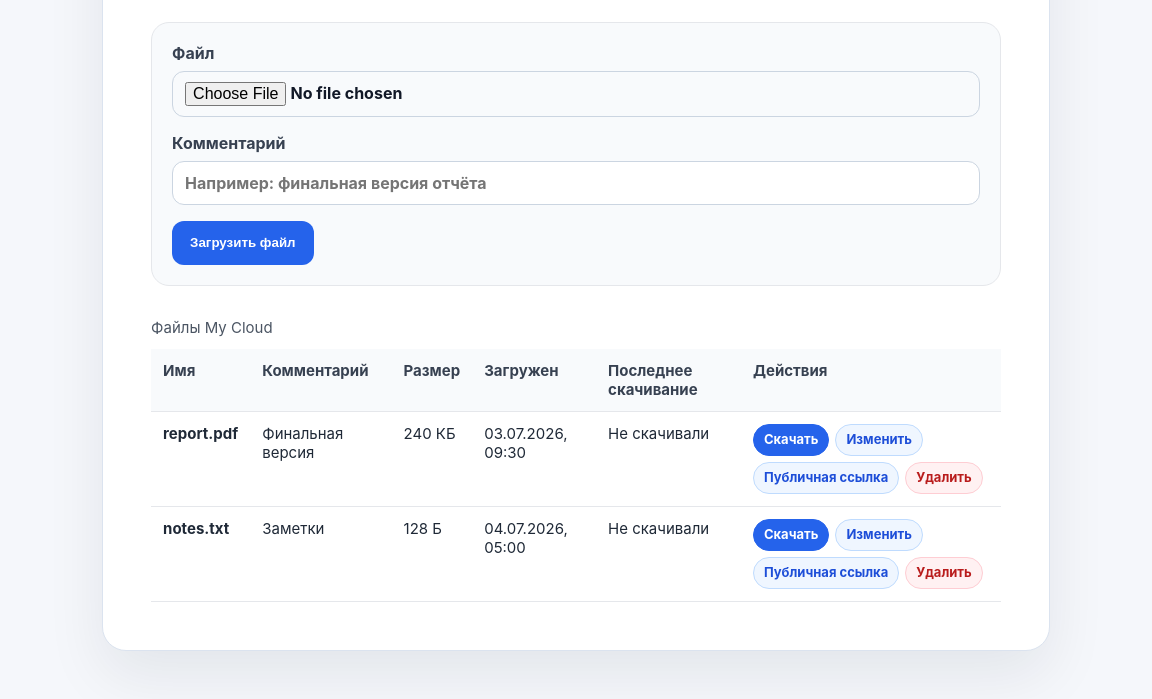
it: App › deletes file after confirmation
(page scrolled)
Expected: the column heading "report.pdf" is shown, 151,411 -> 250,506
Click the 1st button "Удалить" at (944, 478), box 905,462 -> 983,494
(page scrolled)
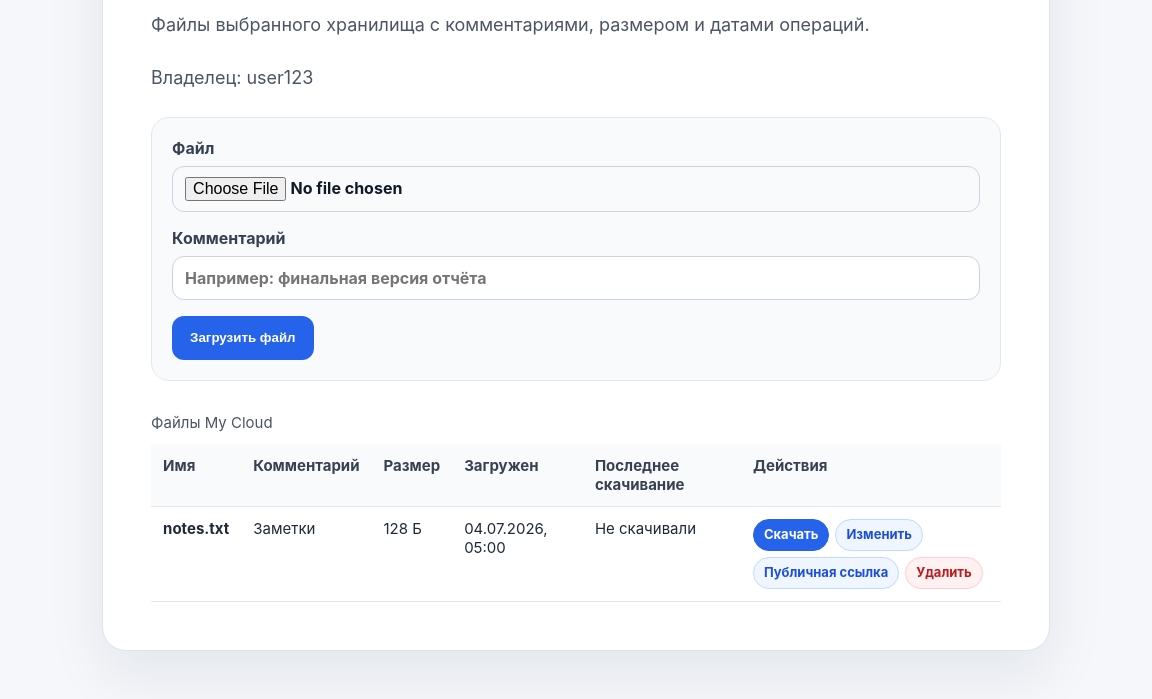
Expected: the column heading "report.pdf" is gone
